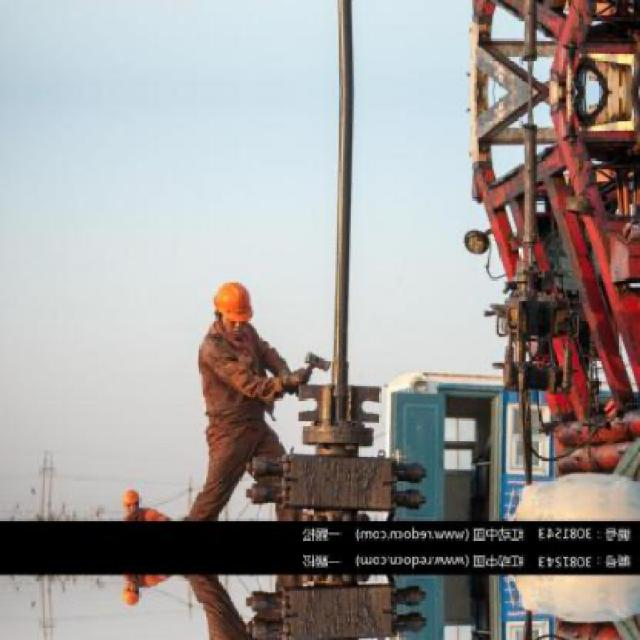helmet: (211, 274, 257, 340), (123, 580, 142, 611), (123, 482, 142, 512)
